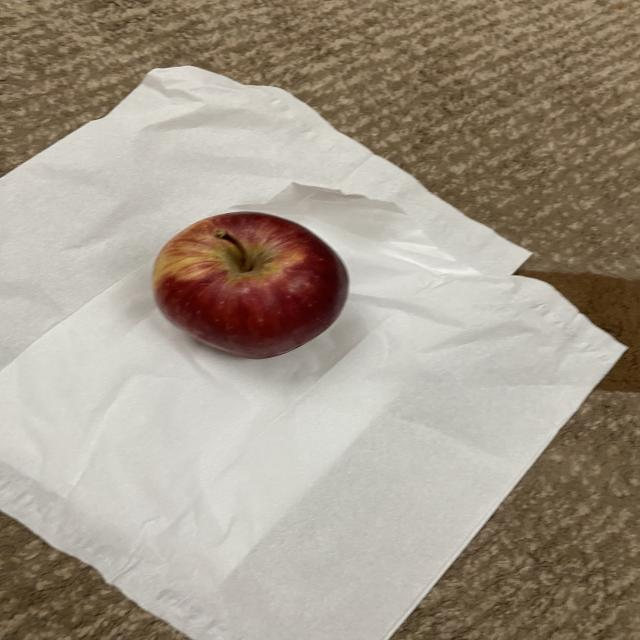apple: (144, 206, 350, 364)
